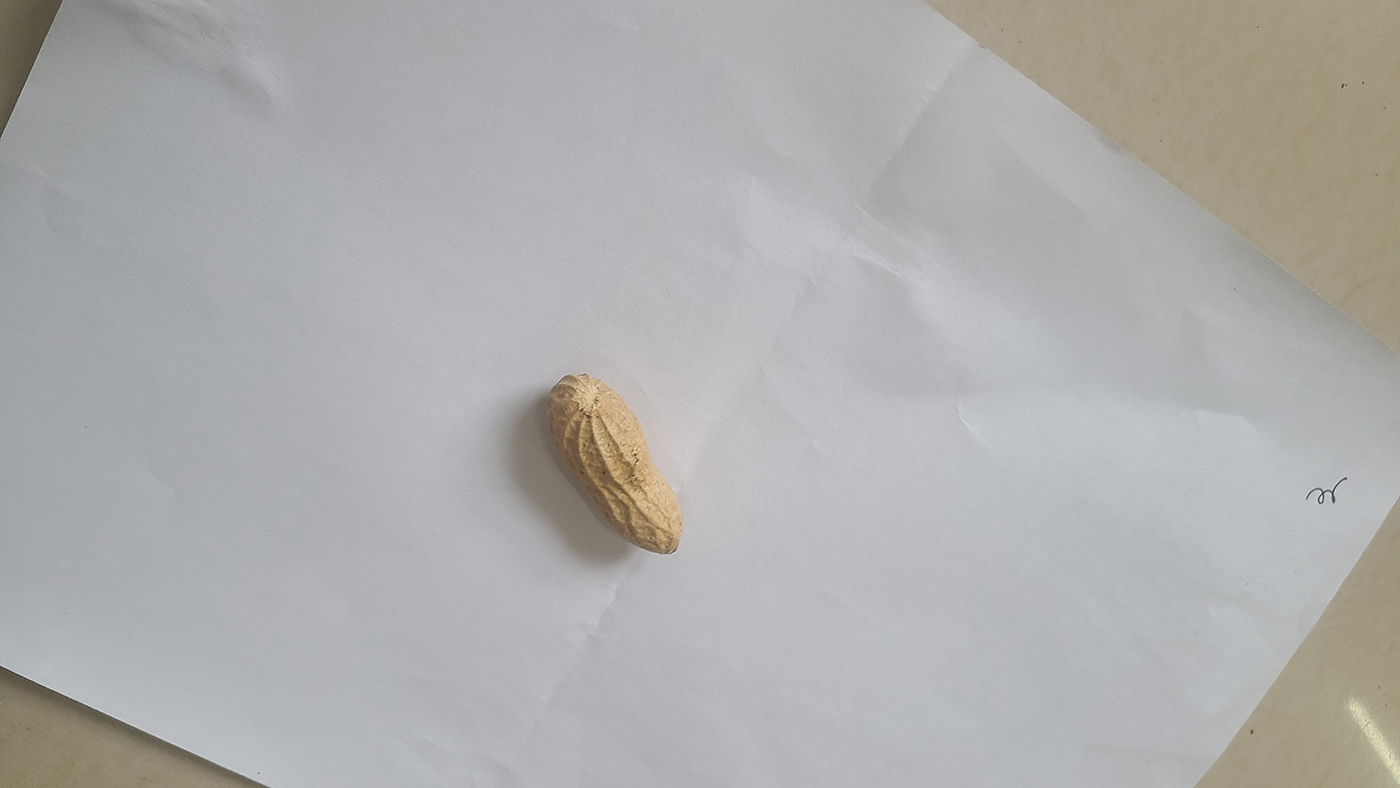h: (547, 369, 686, 556)
